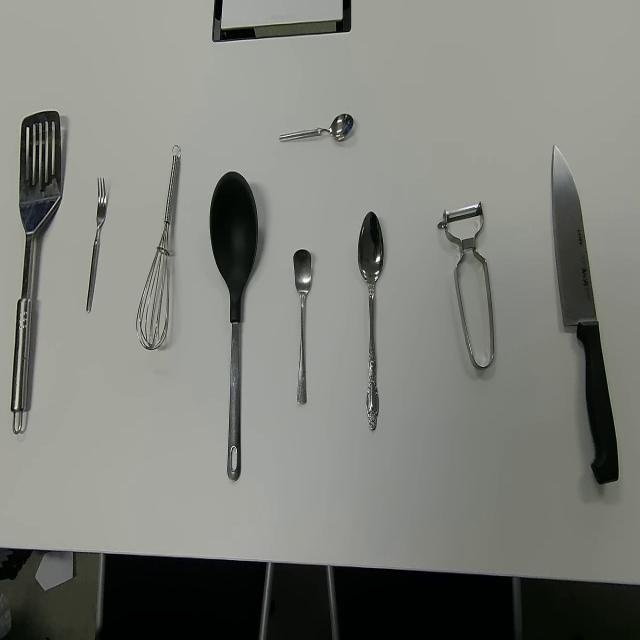Desert-Spoon: (356, 210, 384, 432)
Dinner-Fork: (86, 176, 108, 315)
Kitchen-Knife: (550, 143, 620, 485)
Peeler: (437, 200, 495, 370)
Serving-Spoon: (9, 109, 62, 436), (208, 170, 259, 484)
Tea-Spoon: (293, 247, 312, 407), (278, 112, 354, 144)
Whisk: (135, 142, 182, 352)
